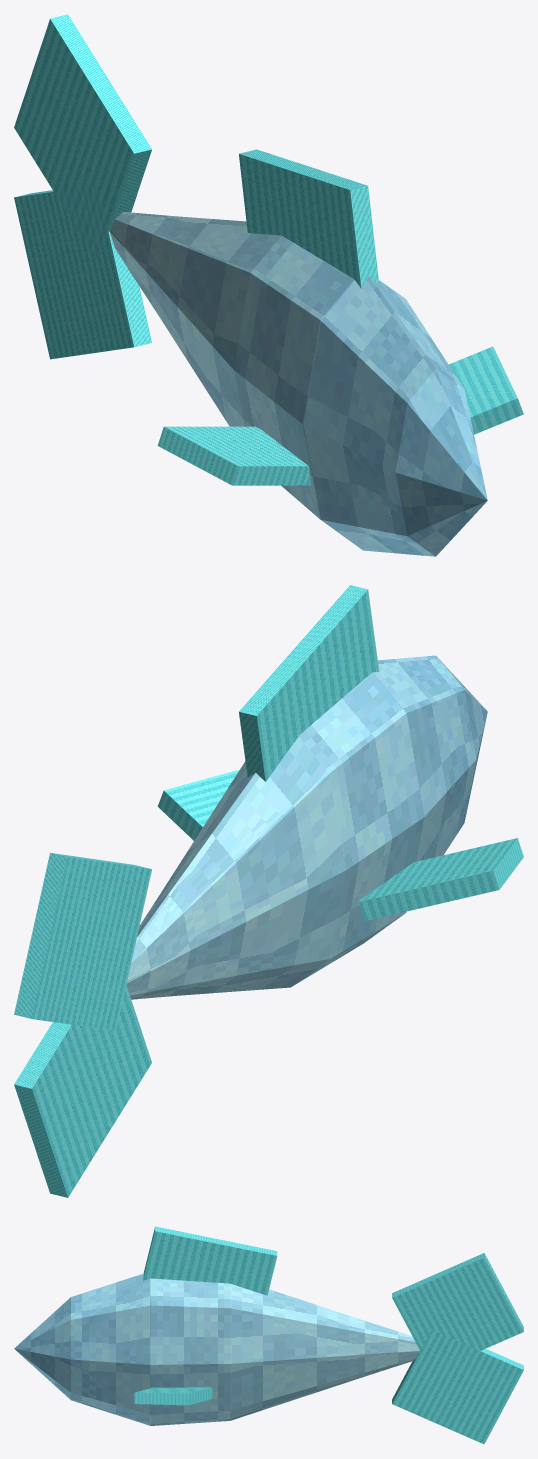
The model's file is tetra_prisma.glb.
The picture shows the model from 3 angles, top to bottom: view 1: azimuth 30°, elevation 25°; view 2: azimuth 150°, elevation 25°; view 3: azimuth 270°, elevation 25°; orthographic projection. The views are drawn at different scales.
Visible parts, largest first — view 1: tetra_prisma; view 2: tetra_prisma; view 3: tetra_prisma.
Part boxes in pixels (left/top/right/bottom): tetra_prisma: left=14, top=14, right=523, bottom=556; tetra_prisma: left=14, top=585, right=523, bottom=1197; tetra_prisma: left=14, top=1226, right=523, bottom=1444.
Size of the model in its own units: 0.3042 by 0.3308 by 0.7167.
1 material, 1 textured.
